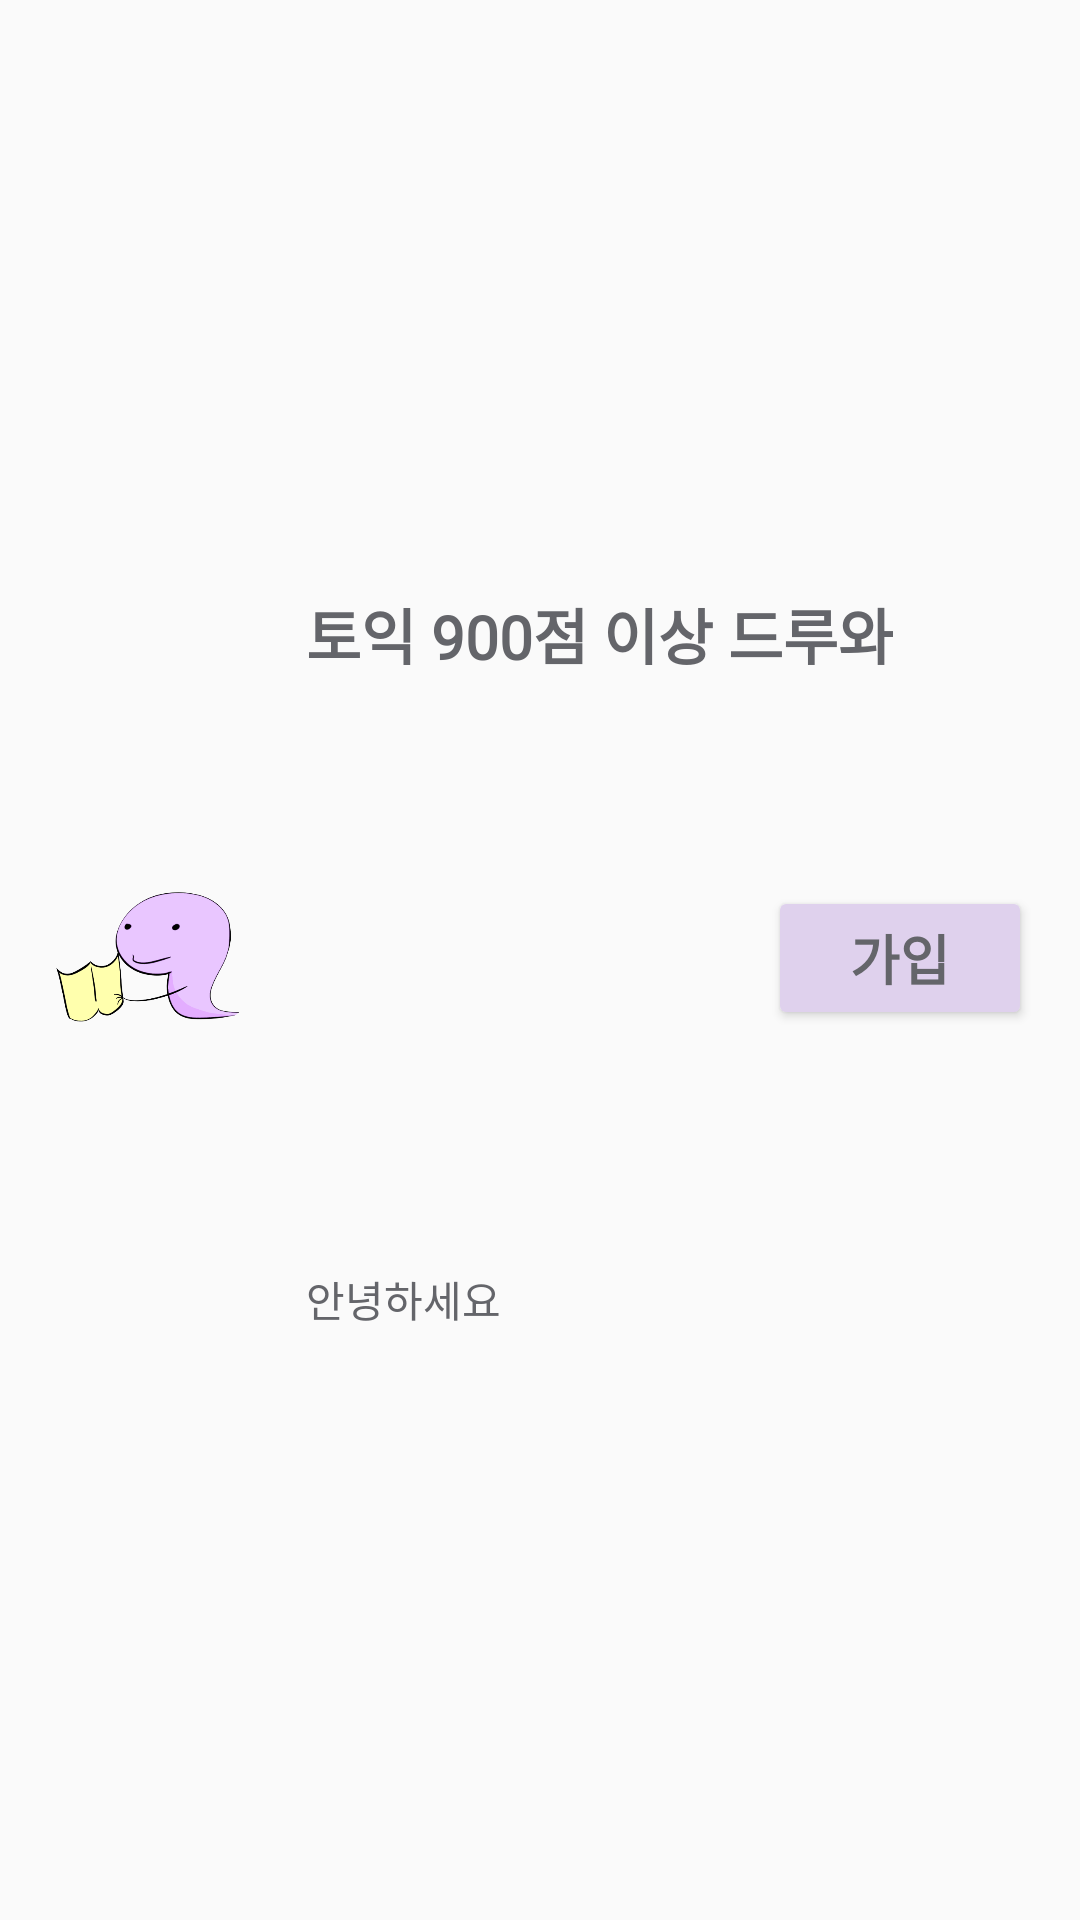

Where to tap for icons on this 1080*1920 app screen, as (x=x, y=y):
swot: (x=147, y=957)
